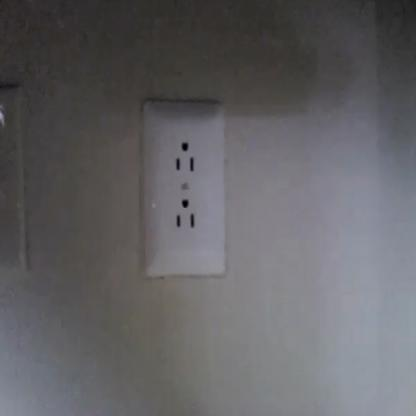OUTLET: (141, 100, 226, 280)
